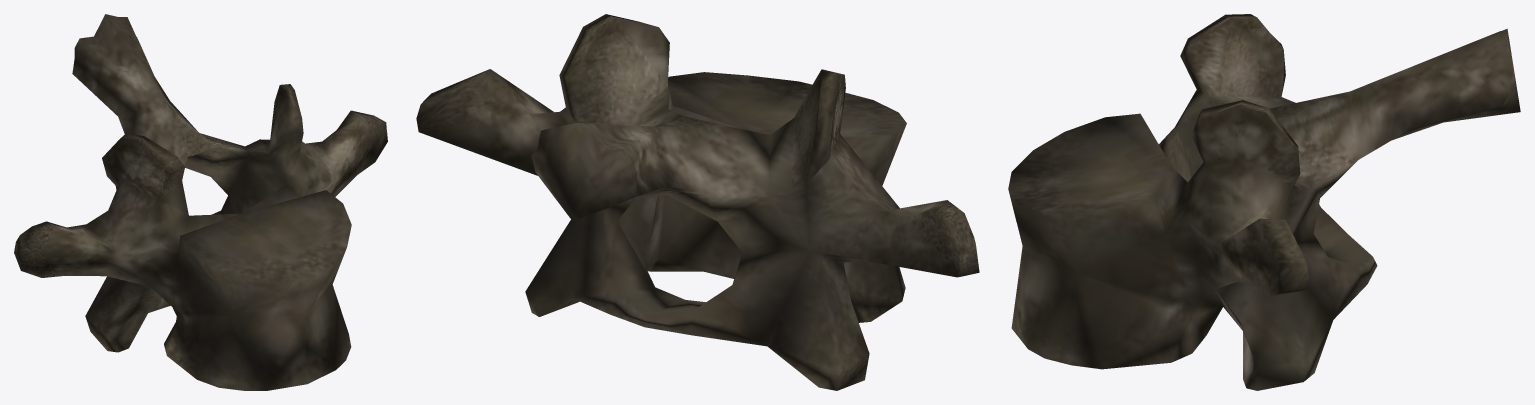
File: mantle_vertebra.glb
3 renders of one model, left to right at view 1: azimuth 30°, elevation 25°; view 2: azimuth 150°, elevation 25°; view 3: azimuth 270°, elevation 25°, orthographic. The views are drawn at different scales.
Parts seen in each view (by area): view 1: tripo_node_7630c68b-a1ce-4cdb-83f1-2de477e88960; view 2: tripo_node_7630c68b-a1ce-4cdb-83f1-2de477e88960; view 3: tripo_node_7630c68b-a1ce-4cdb-83f1-2de477e88960.
Boxes of the visible parts, x1=… form: tripo_node_7630c68b-a1ce-4cdb-83f1-2de477e88960: x1=14, y1=14, x2=387, y2=390; tripo_node_7630c68b-a1ce-4cdb-83f1-2de477e88960: x1=416, y1=14, x2=979, y2=390; tripo_node_7630c68b-a1ce-4cdb-83f1-2de477e88960: x1=1008, y1=14, x2=1520, y2=390.
Size of the model in its own units: 0.998 by 0.5918 by 0.9083.
Materials: 1 (1 with a texture image).
